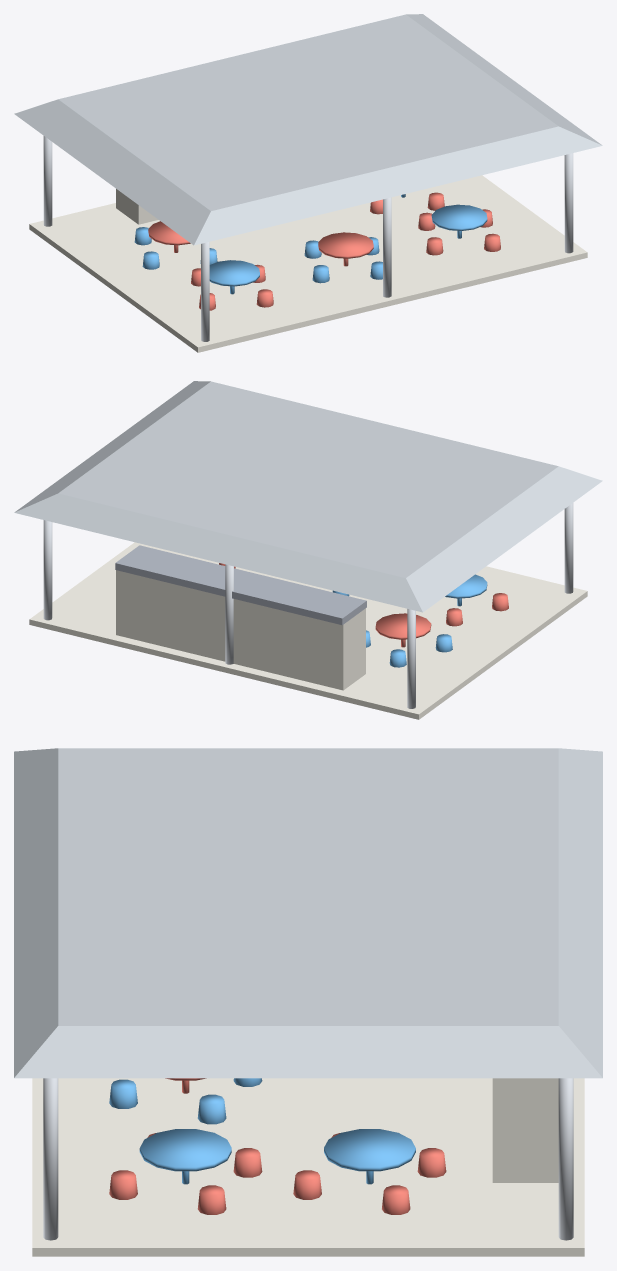
The model's file is Bld_Mamak.fbx.
3 views of the same model, one above another, from view 1: azimuth 30°, elevation 25°; view 2: azimuth 150°, elevation 25°; view 3: azimuth 270°, elevation 25° (orthographic). The views are drawn at different scales.
Parts seen in each view (by area): view 1: Bld_Mamak; view 2: Bld_Mamak; view 3: Bld_Mamak.
Boxes of the visible parts, x1,y1,x2,y2 form: Bld_Mamak: (14,14,602,352); Bld_Mamak: (14,381,602,719); Bld_Mamak: (14,748,602,1256).
Size of the model in its own units: 12.6 by 3.85 by 9.6.
